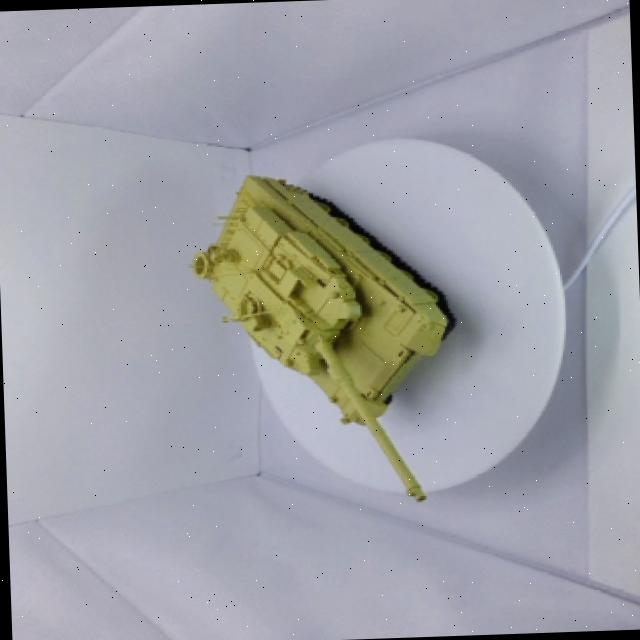korea tank: (164, 150, 487, 528)
